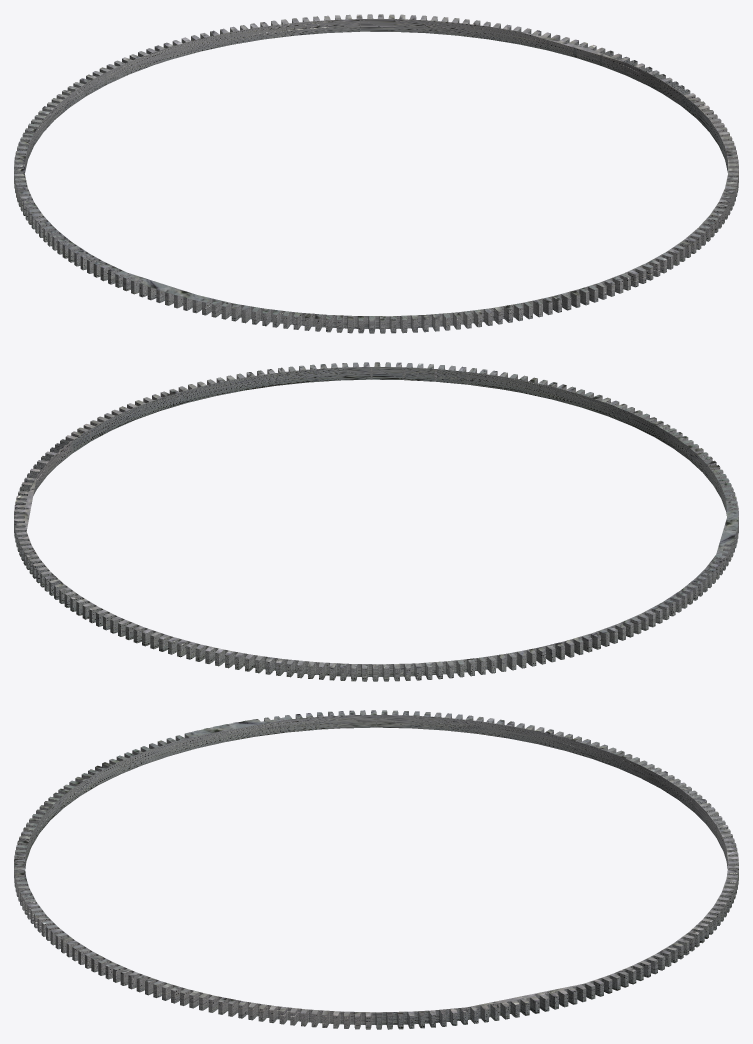
The picture shows the model from 3 angles, top to bottom: view 1: azimuth 30°, elevation 25°; view 2: azimuth 150°, elevation 25°; view 3: azimuth 270°, elevation 25°; orthographic projection.
Parts seen in each view (by area): view 1: 04_HZ_circle02OUT; view 2: 04_HZ_circle02OUT; view 3: 04_HZ_circle02OUT.
Part boxes in pixels (x1=…): 04_HZ_circle02OUT: x1=14, y1=14, x2=738, y2=333; 04_HZ_circle02OUT: x1=14, y1=362, x2=738, y2=681; 04_HZ_circle02OUT: x1=14, y1=710, x2=738, y2=1029.
Size of the model in its own units: 3091 by 60.2 by 3091.
